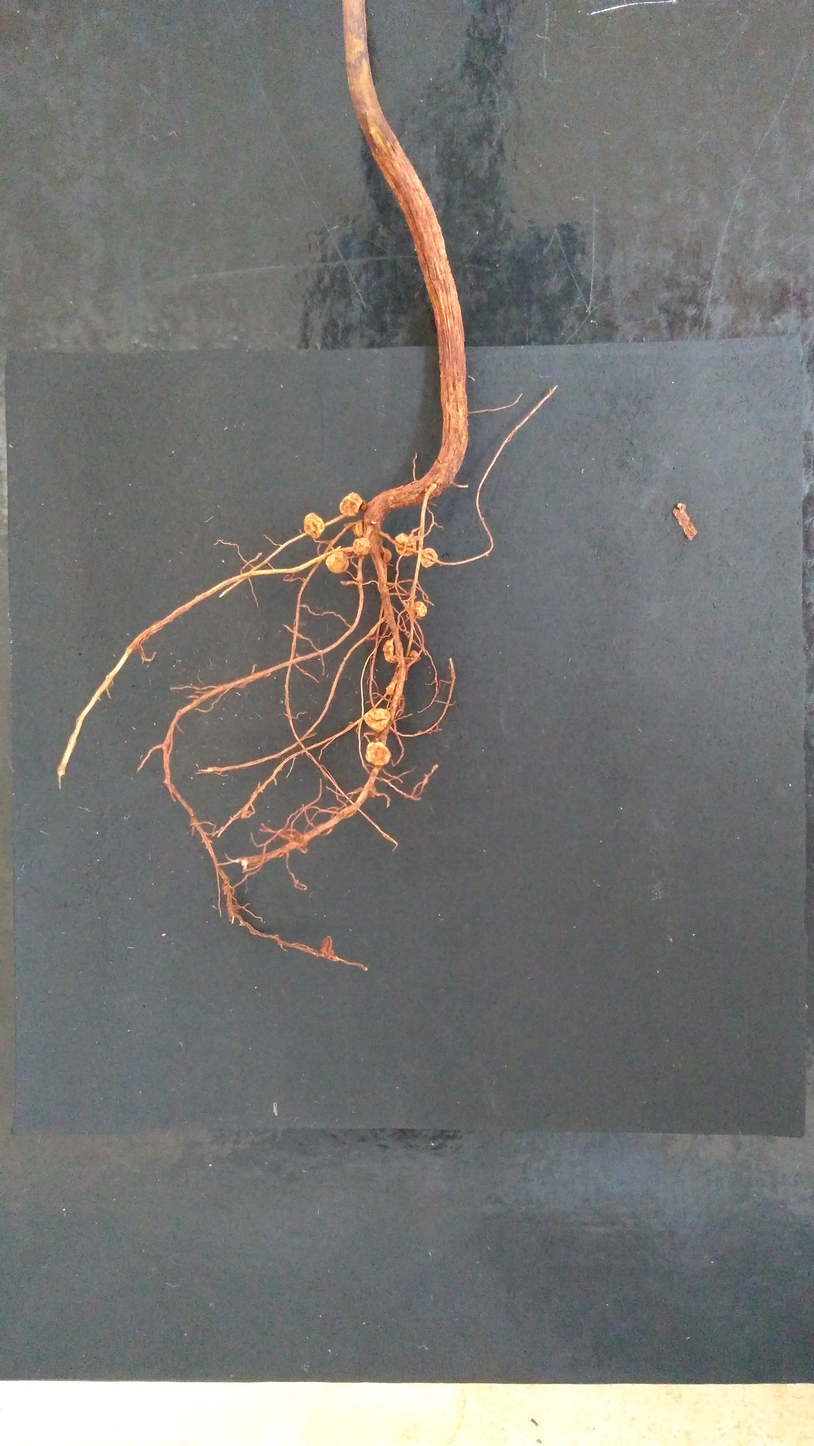nodule: (364, 709, 390, 732), (340, 492, 363, 517), (365, 743, 390, 765), (325, 551, 349, 573), (304, 513, 324, 538), (395, 533, 416, 556), (383, 637, 401, 663), (420, 548, 438, 567), (410, 601, 427, 620), (353, 538, 370, 556), (321, 936, 333, 958), (405, 650, 418, 665), (354, 519, 364, 538), (380, 545, 391, 562), (385, 679, 396, 695)
